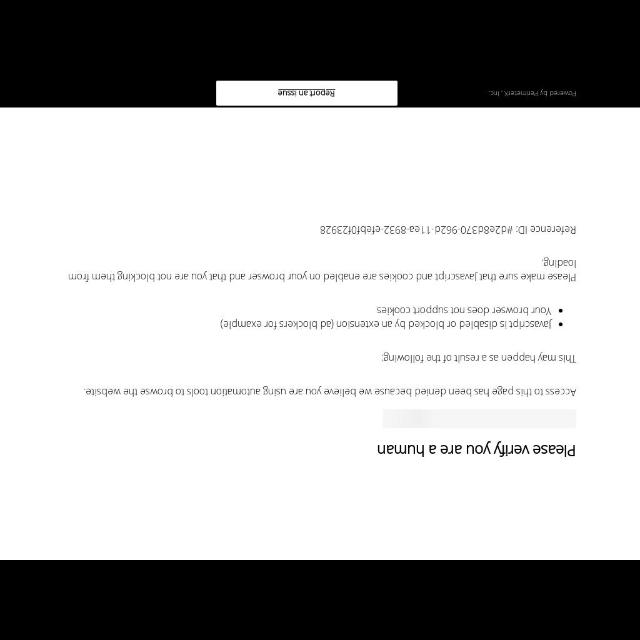icon: (558, 321, 564, 327), (558, 308, 564, 314)
text: (67, 258, 577, 282), (82, 387, 576, 398), (218, 319, 552, 331), (377, 442, 575, 458), (320, 225, 576, 235), (379, 352, 575, 364), (376, 307, 552, 315), (489, 89, 577, 97), (278, 88, 336, 98)
textbutton: (216, 81, 398, 107)
